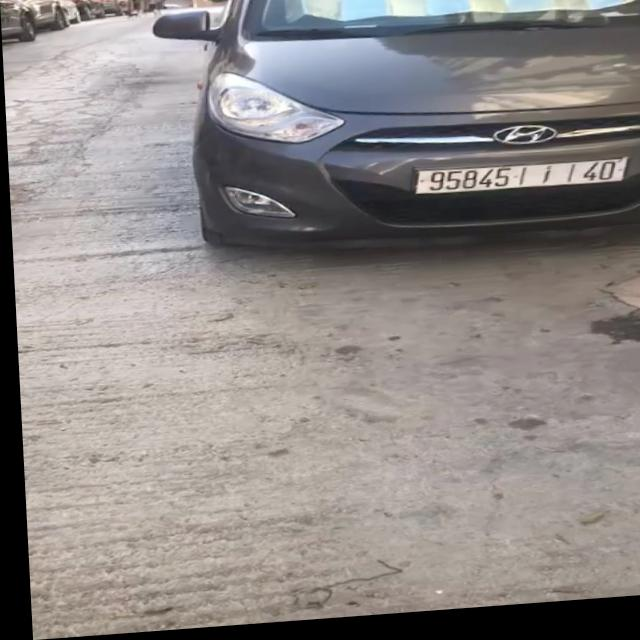License-Plate: (413, 167, 625, 201)
